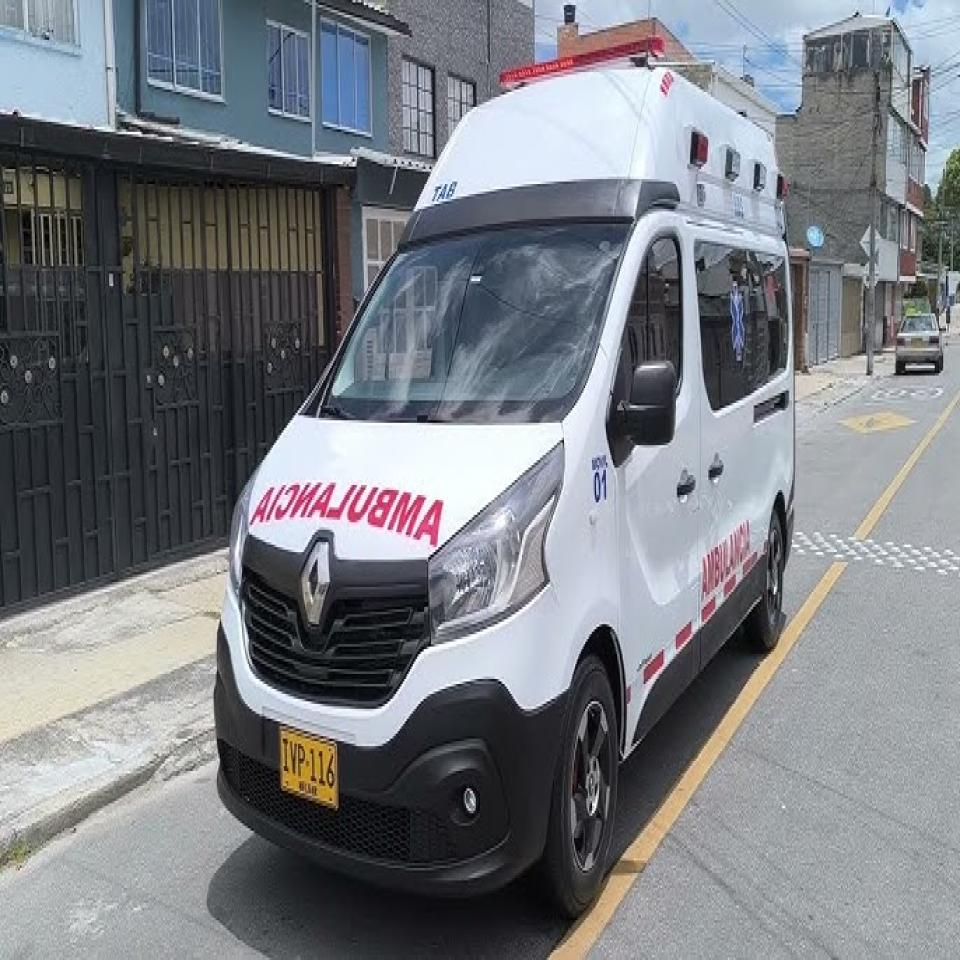bombeiro: (210, 21, 797, 921)
